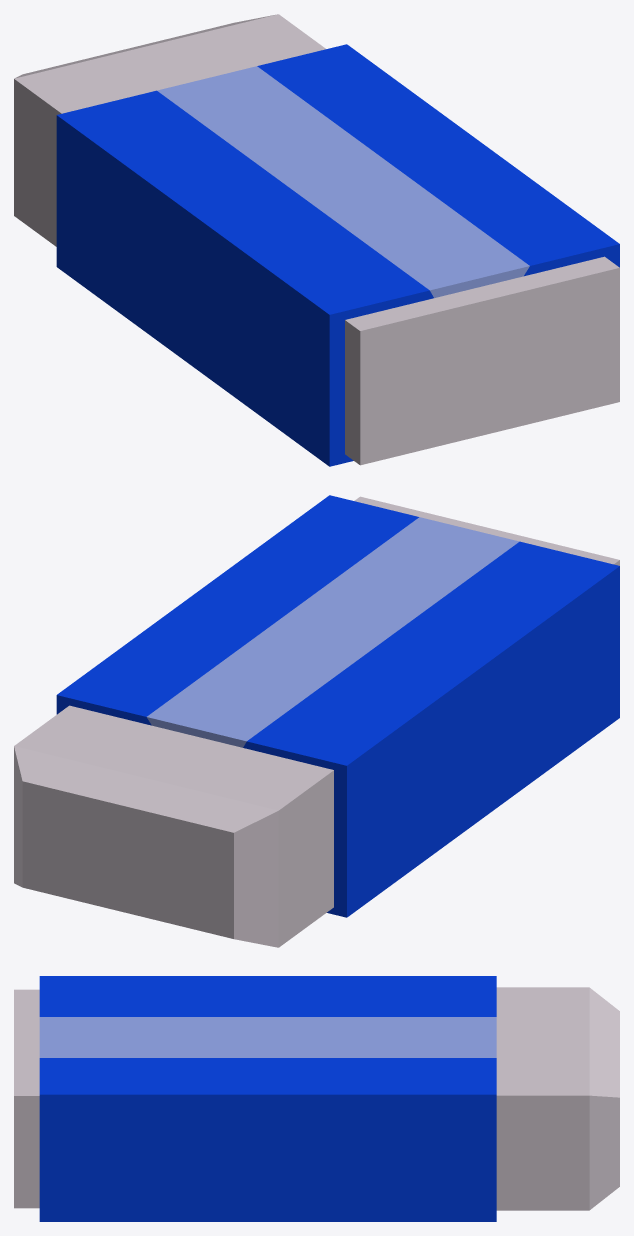
Rendered from eraser.fbx.
The picture shows the model from 3 angles, top to bottom: view 1: azimuth 30°, elevation 25°; view 2: azimuth 150°, elevation 25°; view 3: azimuth 270°, elevation 25°; orthographic projection. The views are drawn at different scales.
Visible parts, largest first — view 1: Cube.002; view 2: Cube.002; view 3: Cube.002.
Part boxes in pixels (x1,y1,x2,y2): Cube.002: (14, 14, 619, 466); Cube.002: (14, 495, 619, 947); Cube.002: (14, 976, 619, 1221).
Size of the model in its own units: 127 by 63.5 by 274.
